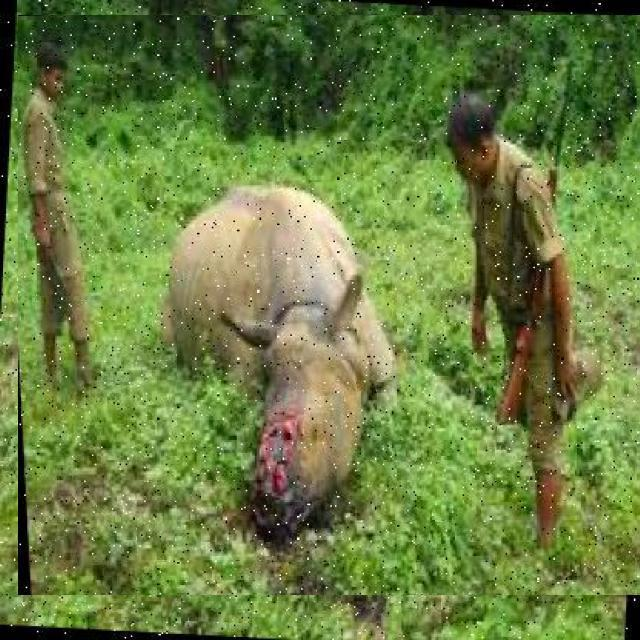ranger: (432, 68, 581, 509), (2, 36, 128, 390)
rhino: (166, 182, 435, 568)
